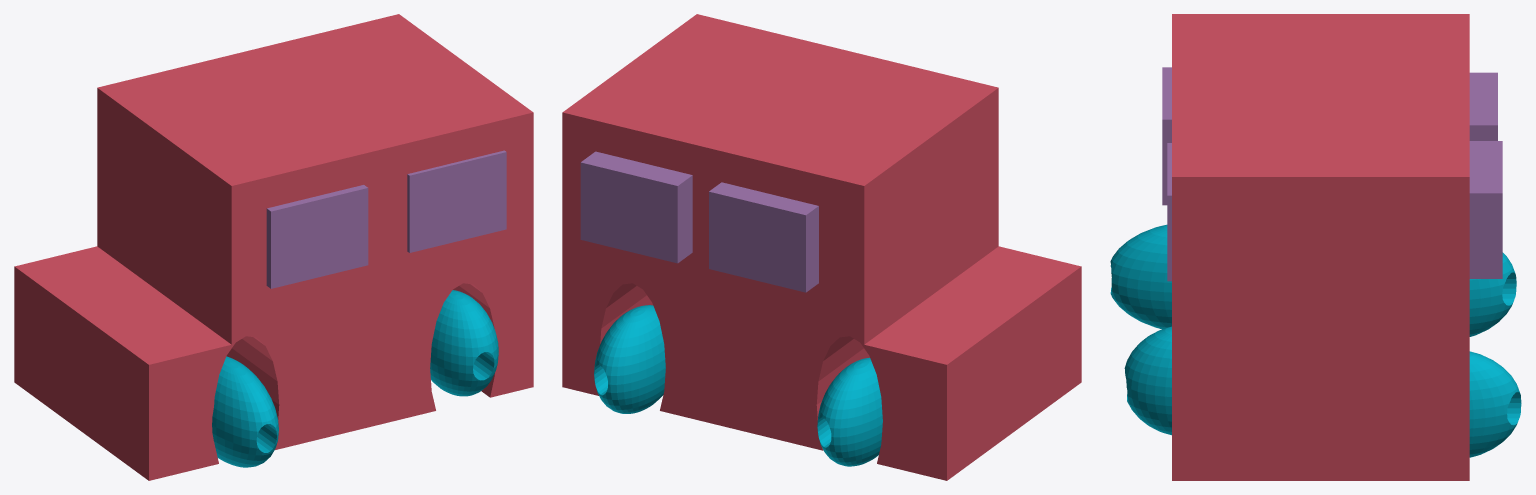
3 views of the same model, side by side, from view 1: azimuth 30°, elevation 25°; view 2: azimuth 150°, elevation 25°; view 3: azimuth 270°, elevation 25° (orthographic). The views are drawn at different scales.
Visible parts, largest first — view 1: Mesh_Mesh_head_geo.001_lambert2SG.001; view 2: Mesh_Mesh_head_geo.001_lambert2SG.001; view 3: Mesh_Mesh_head_geo.001_lambert2SG.001.
Boxes of the visible parts, x1=… form: Mesh_Mesh_head_geo.001_lambert2SG.001: x1=14, y1=14, x2=533, y2=480; Mesh_Mesh_head_geo.001_lambert2SG.001: x1=562, y1=14, x2=1081, y2=480; Mesh_Mesh_head_geo.001_lambert2SG.001: x1=1110, y1=14, x2=1521, y2=480.
Bounding box in the file's own units: 104 × 74 × 87.
